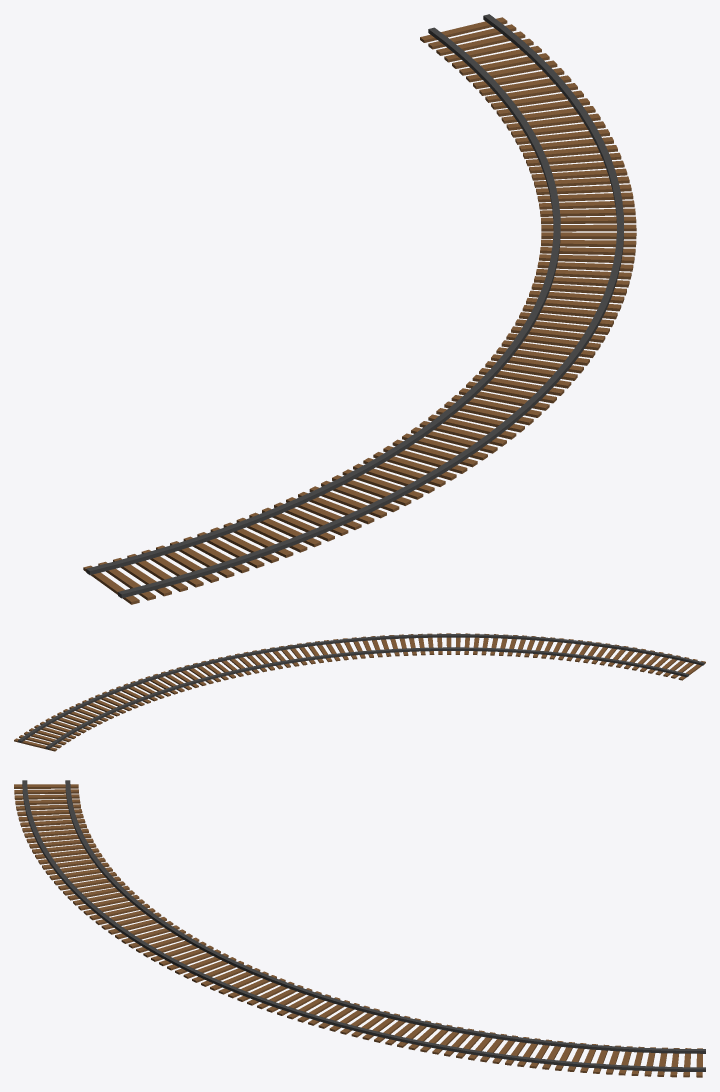
The model's file is Railway_03.fbx.
3 renders of one model, top to bottom at view 1: azimuth 30°, elevation 25°; view 2: azimuth 150°, elevation 25°; view 3: azimuth 270°, elevation 25°, orthographic. The views are drawn at different scales.
Visible parts, largest first — view 1: Railway_03; view 2: Railway_03; view 3: Railway_03.
Part boxes in pixels (bbox=[...]): Railway_03: bbox=[83, 14, 636, 604]; Railway_03: bbox=[14, 633, 705, 751]; Railway_03: bbox=[14, 780, 705, 1077].
Size of the model in its own units: 2671 by 19.57 by 2671.
